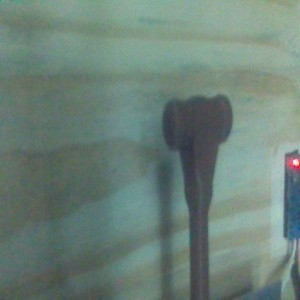palu: (162, 93, 234, 300)
